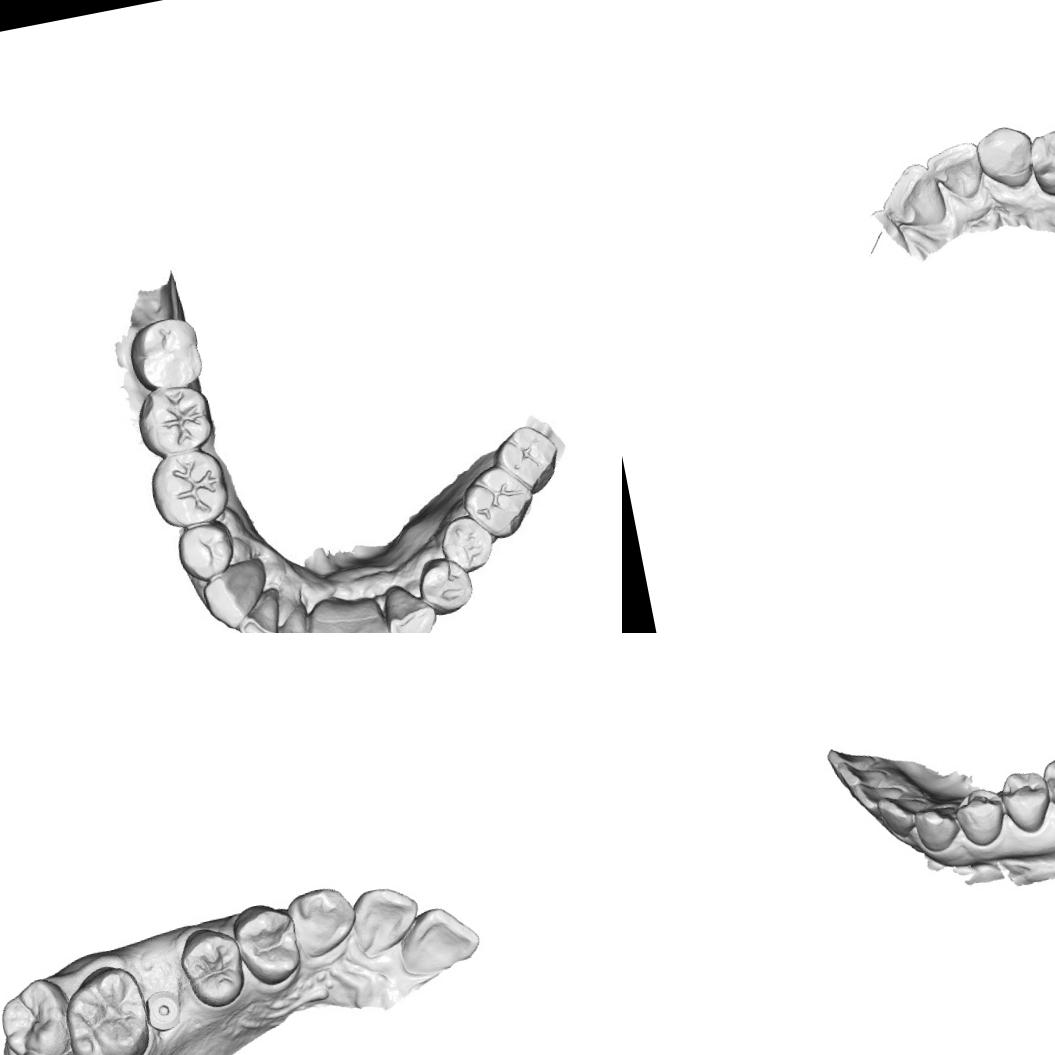canine: (279, 881, 362, 962), (970, 118, 1042, 196), (195, 558, 270, 631), (909, 795, 965, 857), (381, 579, 441, 633)
implant: (142, 988, 184, 1032)
incisor: (392, 900, 484, 980), (872, 156, 950, 236), (344, 878, 424, 955), (922, 137, 988, 206), (873, 788, 932, 842), (340, 588, 398, 633), (846, 774, 906, 815), (230, 589, 284, 633), (834, 753, 890, 793), (302, 593, 357, 633), (823, 738, 880, 776), (266, 595, 320, 633)
molar: (55, 959, 154, 1055), (0, 971, 80, 1055), (146, 441, 224, 527), (126, 312, 207, 394), (136, 377, 216, 455), (463, 463, 536, 542), (496, 421, 564, 496), (1037, 739, 1055, 828)
premolar: (228, 895, 304, 990), (175, 922, 252, 1014), (995, 764, 1055, 838), (950, 782, 1011, 852), (178, 515, 238, 579), (414, 557, 472, 616), (438, 512, 492, 574), (1023, 123, 1055, 201)
